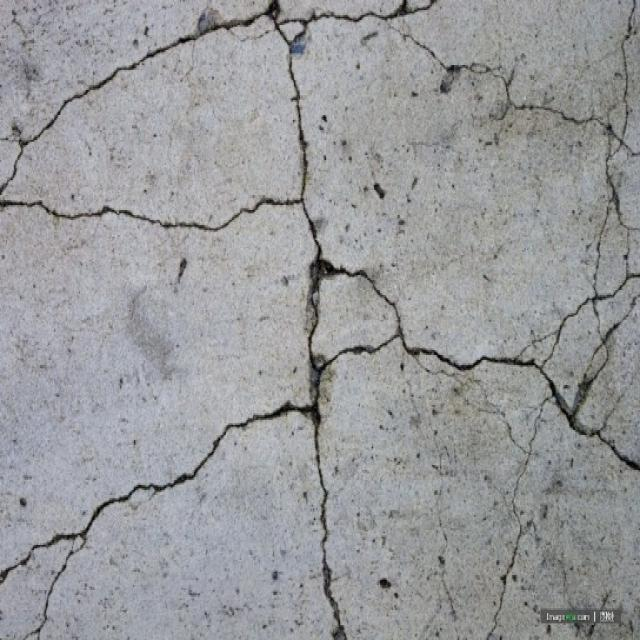Turtle-shell patterned: (6, 2, 640, 640)
